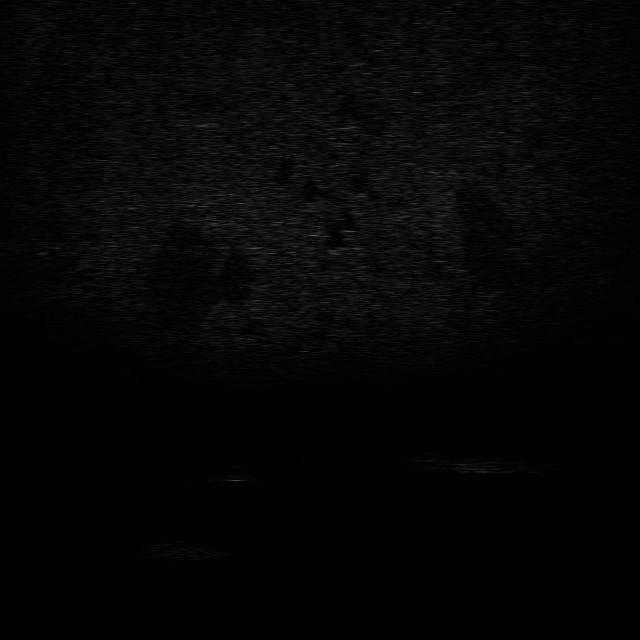ball: (206, 460, 260, 484)
circle cage: (135, 536, 226, 564)
human body: (406, 448, 544, 478)
